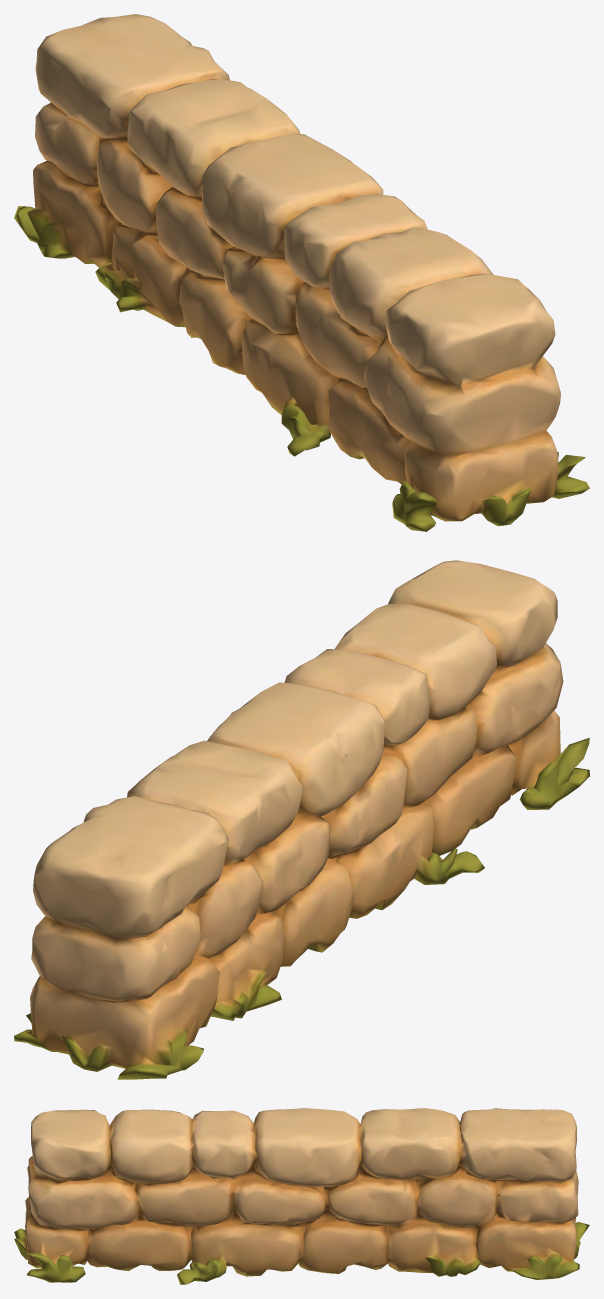
File: drywall.glb
The picture shows the model from 3 angles, top to bottom: view 1: azimuth 30°, elevation 25°; view 2: azimuth 150°, elevation 25°; view 3: azimuth 270°, elevation 25°; orthographic projection. The views are drawn at different scales.
Visible parts, largest first — view 1: tripo_node_6aa5811a-1a1d-4ced-9891-bbc7d9ebcc10; view 2: tripo_node_6aa5811a-1a1d-4ced-9891-bbc7d9ebcc10; view 3: tripo_node_6aa5811a-1a1d-4ced-9891-bbc7d9ebcc10.
Boxes of the visible parts, x1,y1,x2,y2 form: tripo_node_6aa5811a-1a1d-4ced-9891-bbc7d9ebcc10: (14, 14, 589, 531); tripo_node_6aa5811a-1a1d-4ced-9891-bbc7d9ebcc10: (14, 560, 589, 1079); tripo_node_6aa5811a-1a1d-4ced-9891-bbc7d9ebcc10: (14, 1108, 589, 1284).
Size of the model in its own units: 0.2525 by 0.2637 by 1.
Materials: 1 (1 with a texture image).
